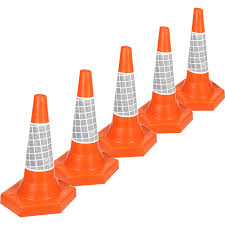cones: (6, 91, 76, 215), (58, 69, 120, 188), (101, 46, 157, 160), (139, 28, 194, 132), (175, 7, 225, 110)
